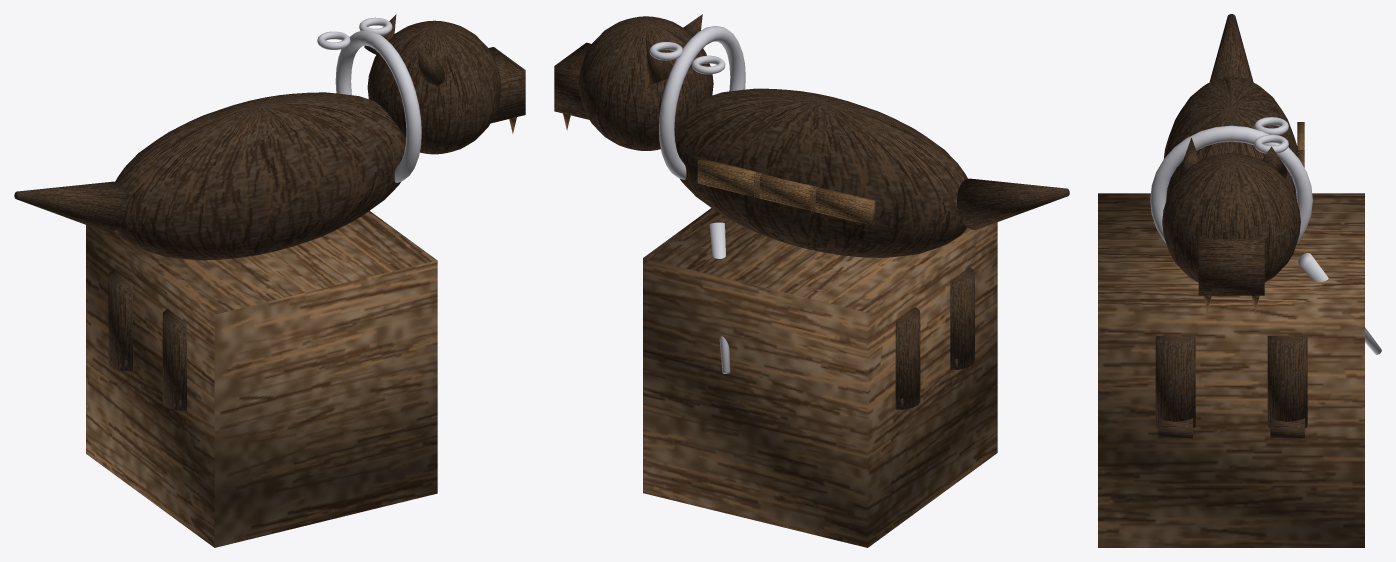
File: fenrir.glb
3 views of the same model, side by side, from view 1: azimuth 30°, elevation 25°; view 2: azimuth 150°, elevation 25°; view 3: azimuth 270°, elevation 25° (orthographic). The views are drawn at different scales.
Parts seen in each view (by area): view 1: Cube, Body, Head, ChainNeck, Tail, Leg.002, Leg.003, Snout, Ear; view 2: Cube, Body, Head, ChainNeck, Tail, Leg.003, Leg.002, Snout, Rib0, Rib2, Rib1, ChainTail; view 3: Cube, Head, Body, ChainNeck, Snout, Leg, Leg.001, Tail, ChainTail, Paw, Paw.001, Link1 (+2 smaller).
Boxes of the visible parts, box(x1,y1,x2,y2) form: Cube: box(86, 211, 437, 547); Body: box(115, 92, 405, 260); Head: box(367, 20, 501, 154); ChainNeck: box(335, 30, 421, 182); Tail: box(14, 181, 125, 232); Leg.002: box(162, 309, 186, 410); Leg.003: box(108, 269, 132, 371); Snout: box(488, 47, 525, 123); Ear: box(417, 47, 444, 85); Cube: box(643, 208, 997, 547); Body: box(674, 88, 967, 257); Head: box(578, 16, 713, 150); ChainNeck: box(659, 26, 745, 179); Tail: box(957, 178, 1069, 229); Leg.003: box(895, 307, 920, 409); Leg.002: box(950, 267, 974, 369); Snout: box(554, 42, 591, 119); Rib0: box(810, 186, 875, 225); Rib2: box(697, 158, 761, 198); Rib1: box(754, 172, 818, 211); ChainTail: box(709, 222, 730, 373); Cube: box(1098, 193, 1364, 547); Head: box(1162, 153, 1300, 282); Body: box(1164, 76, 1298, 200); ChainNeck: box(1150, 125, 1312, 243); Snout: box(1198, 236, 1264, 295); Leg: box(1155, 335, 1195, 428); Leg.001: box(1267, 335, 1307, 428); Tail: box(1209, 14, 1253, 82); ChainTail: box(1298, 253, 1381, 354); Paw: box(1158, 418, 1192, 438); Paw.001: box(1270, 418, 1304, 438); Link1: box(1254, 134, 1288, 153).
Bounding box in the file's own units: 3.74 × 2.96 × 1.79.
5 materials, 3 textured.
